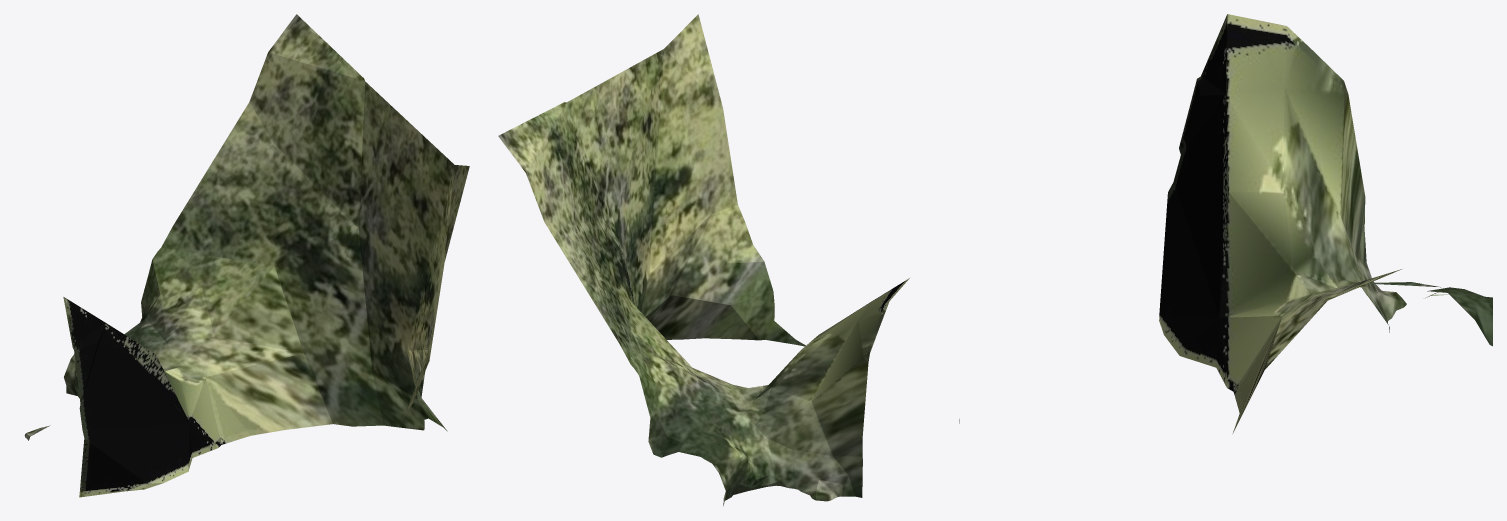
The picture shows the model from 3 angles, left to right: view 1: azimuth 30°, elevation 25°; view 2: azimuth 150°, elevation 25°; view 3: azimuth 270°, elevation 25°; orthographic projection. The views are drawn at different scales.
Size of the model in its own units: 5.9 by 5.56 by 5.9.
Materials: 4 (4 with a texture image).
